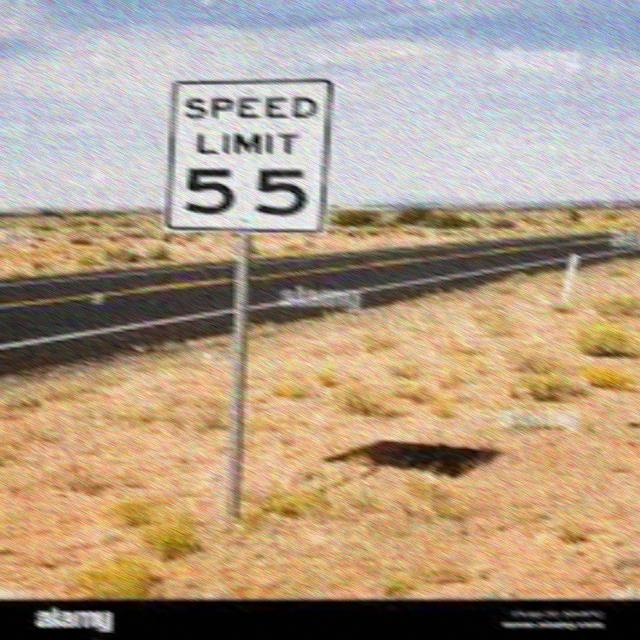speedLimit55: (166, 66, 337, 232)
